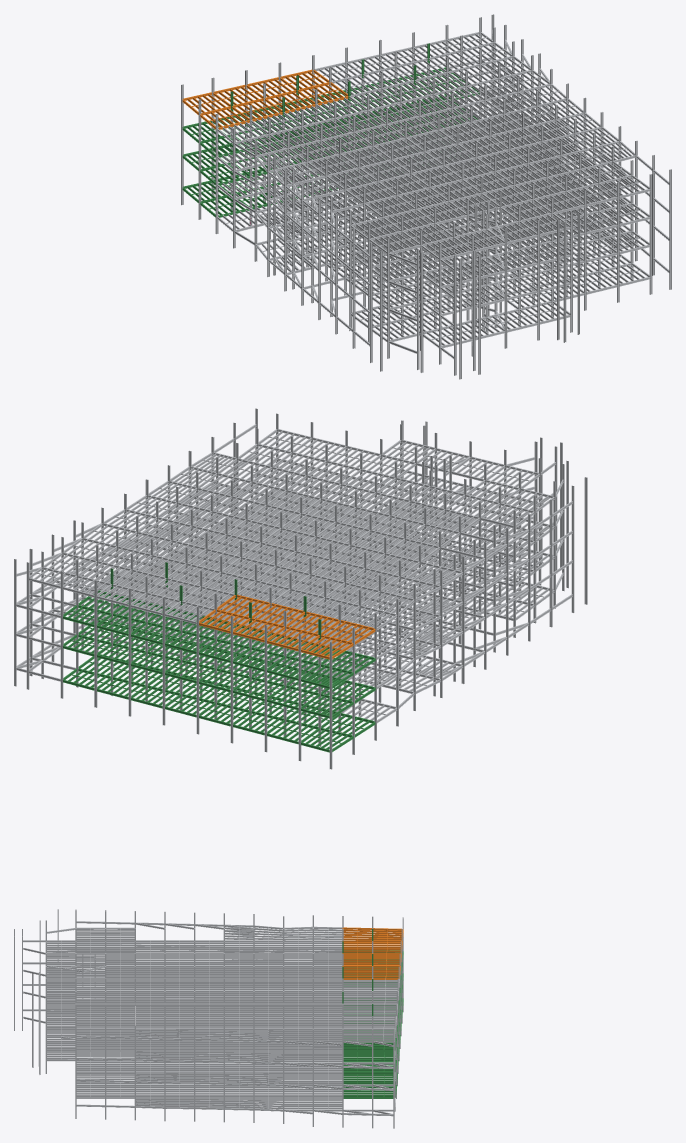
Rendered from ismerely_obra_b3.glb.
3 renders of one model, top to bottom at view 1: azimuth 30°, elevation 25°; view 2: azimuth 150°, elevation 25°; view 3: azimuth 270°, elevation 25°, orthographic. The views are drawn at different scales.
Parts seen in each view (by area): view 1: RA_GRIS, RA_VERDE, RA_NARANJA; view 2: RA_GRIS, RA_VERDE, RA_NARANJA; view 3: RA_GRIS, RA_VERDE, RA_NARANJA.
Boxes of the visible parts, x1,y1,x2,y2 form: RA_GRIS: (181,14,671,379); RA_VERDE: (182,43,479,217); RA_NARANJA: (182,69,348,129); RA_GRIS: (14,408,587,769); RA_VERDE: (63,562,375,752); RA_NARANJA: (199,594,375,659); RA_GRIS: (14,909,403,1128); RA_VERDE: (342,929,403,1098); RA_NARANJA: (342,927,403,979).
Size of the model in its own units: 134 by 28 by 177.
